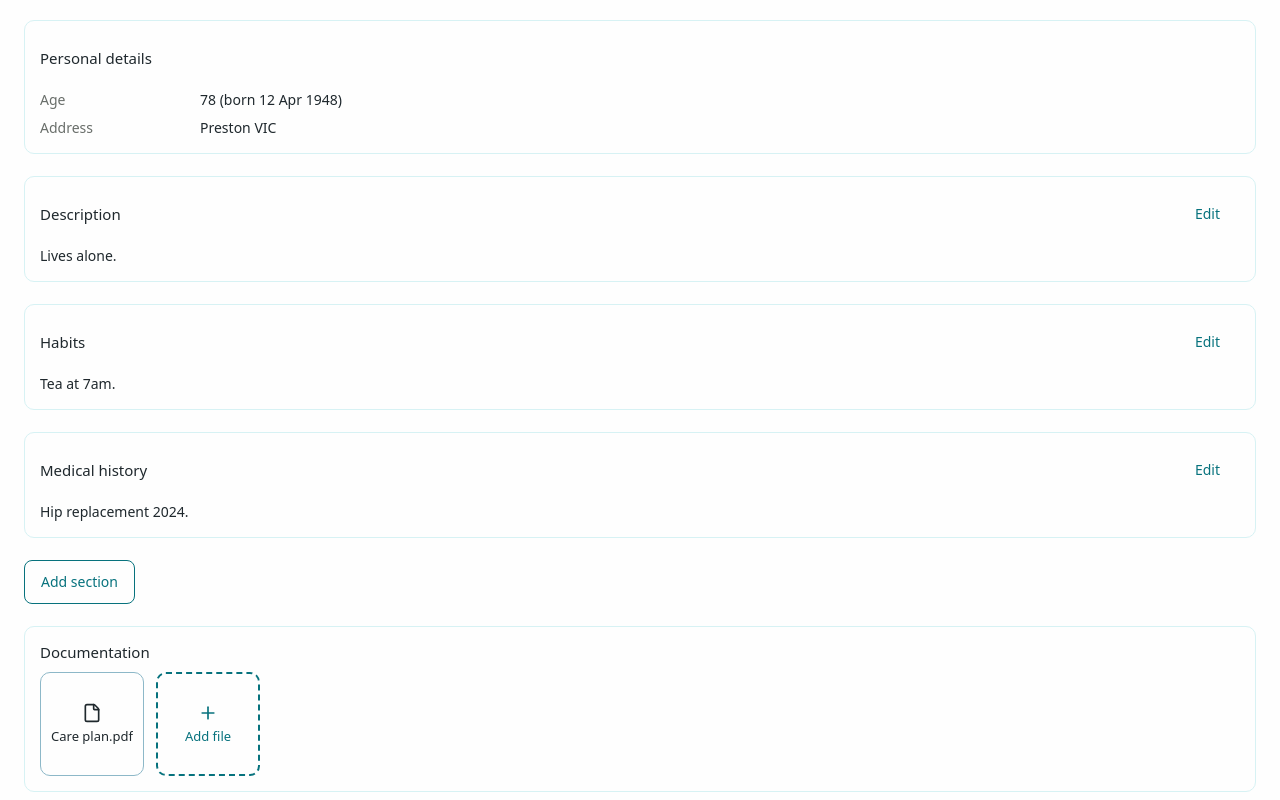
[CAR-04][AC-10] opening a document › [CAR-04][AC-10] shows the failure message inline and closes the blank tab
This screenshot has width=1280, height=800.
Click the button "Care plan.pdf".
click(92, 724)  # box [40,672,144,776]
(page scrolled)
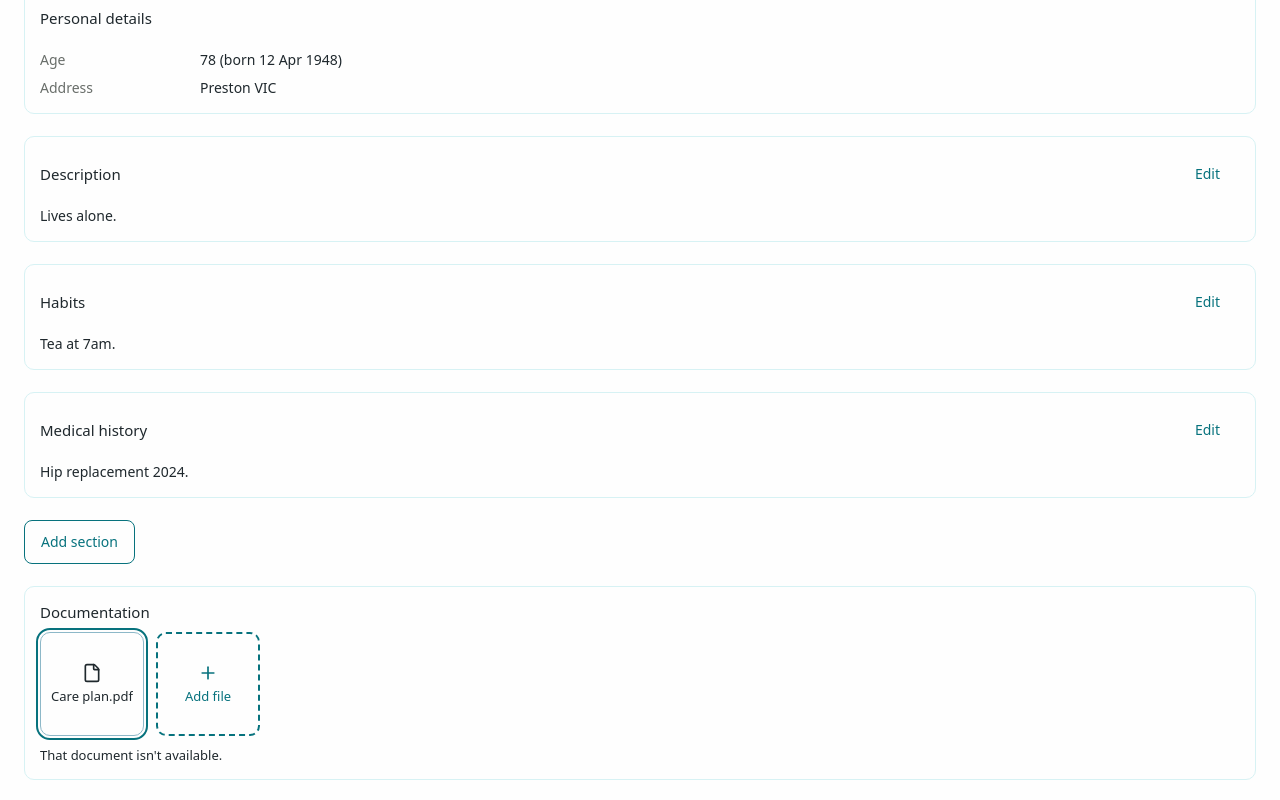
Expected: the text "That document isn't available." is shown, [40,746,222,764]
